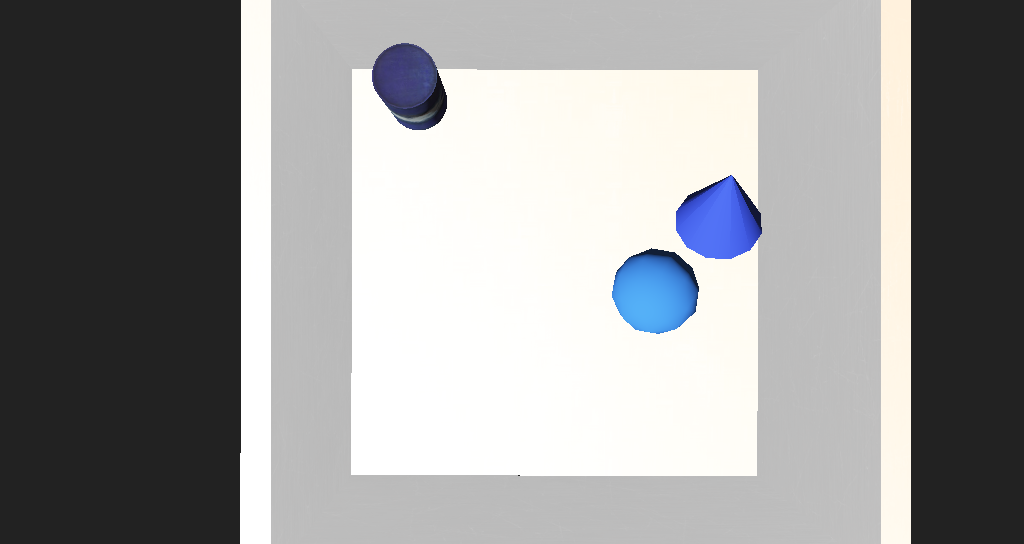cone: (371, 153, 424, 191)
cylinder: (583, 193, 684, 265)
sphere: (549, 253, 610, 301)
